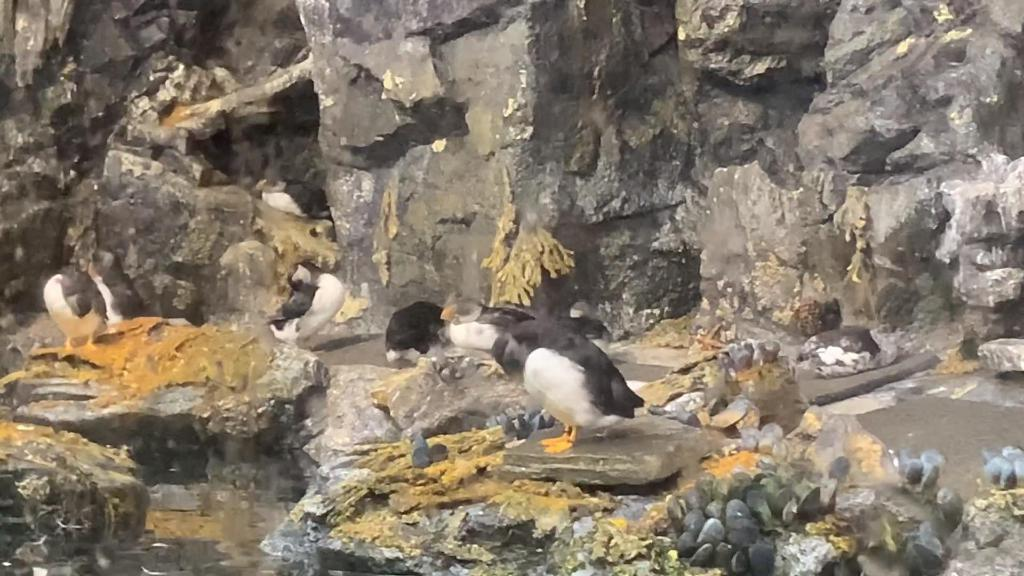puffin: (490, 320, 646, 454), (264, 258, 346, 348), (438, 292, 536, 366), (798, 320, 900, 380), (80, 243, 152, 326), (42, 260, 108, 349), (246, 167, 330, 229), (376, 298, 444, 364)
